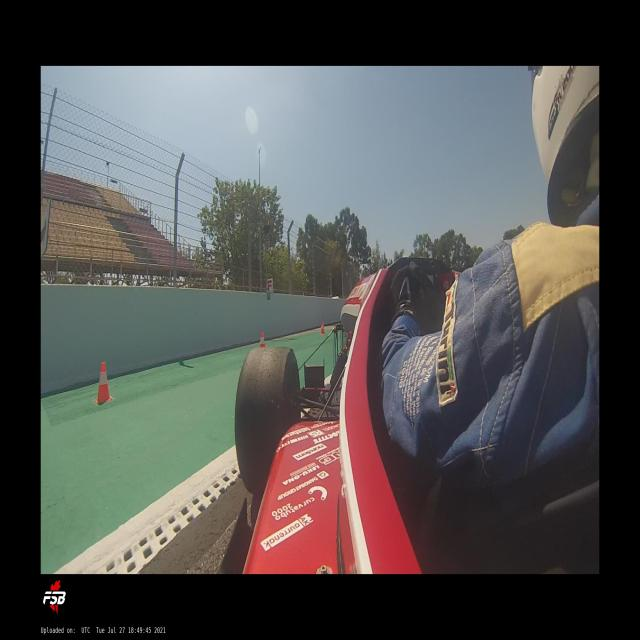orange_cone: (95, 361, 113, 404), (260, 331, 265, 347), (321, 322, 324, 334)
